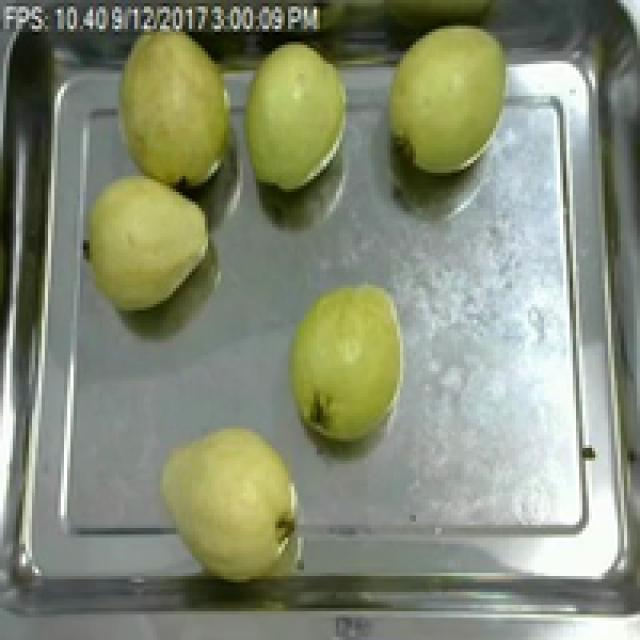Fruit: (154, 416, 314, 589), (106, 10, 247, 202), (374, 9, 522, 182), (278, 272, 416, 448), (74, 163, 220, 323), (230, 35, 358, 205)
